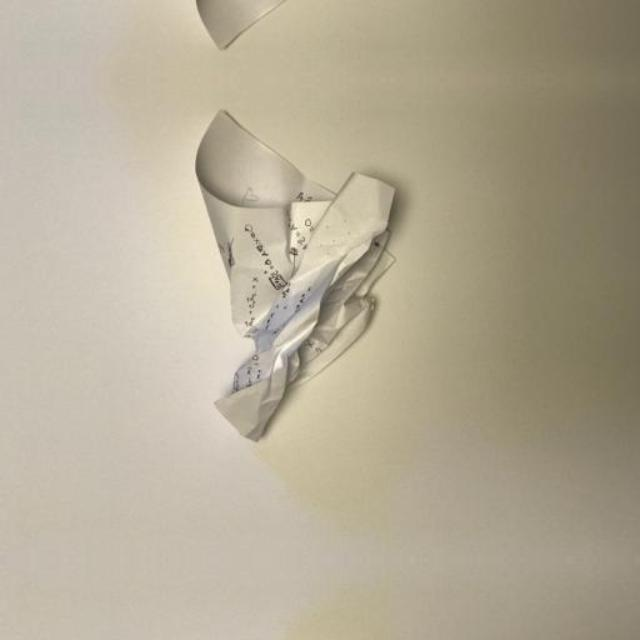paper: (172, 96, 430, 452), (172, 0, 430, 63)
